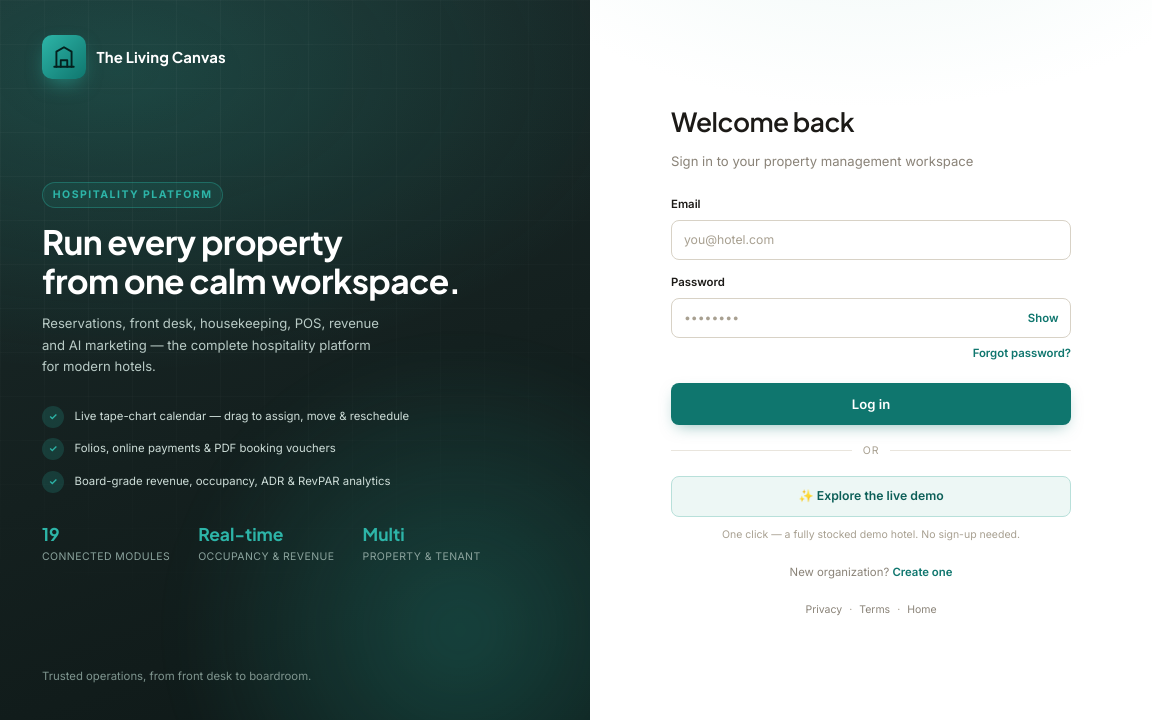
it: LoginPage › submits email and password and shows a server-provided error on failure
The width and height of the screenshot is (1152, 720).
Check: the button "Log in" is enabled, box [671,383,1071,426]
Type "owner@example.com" into the field labelled "Email". click: (871, 240)
box: [671,220,1071,260]
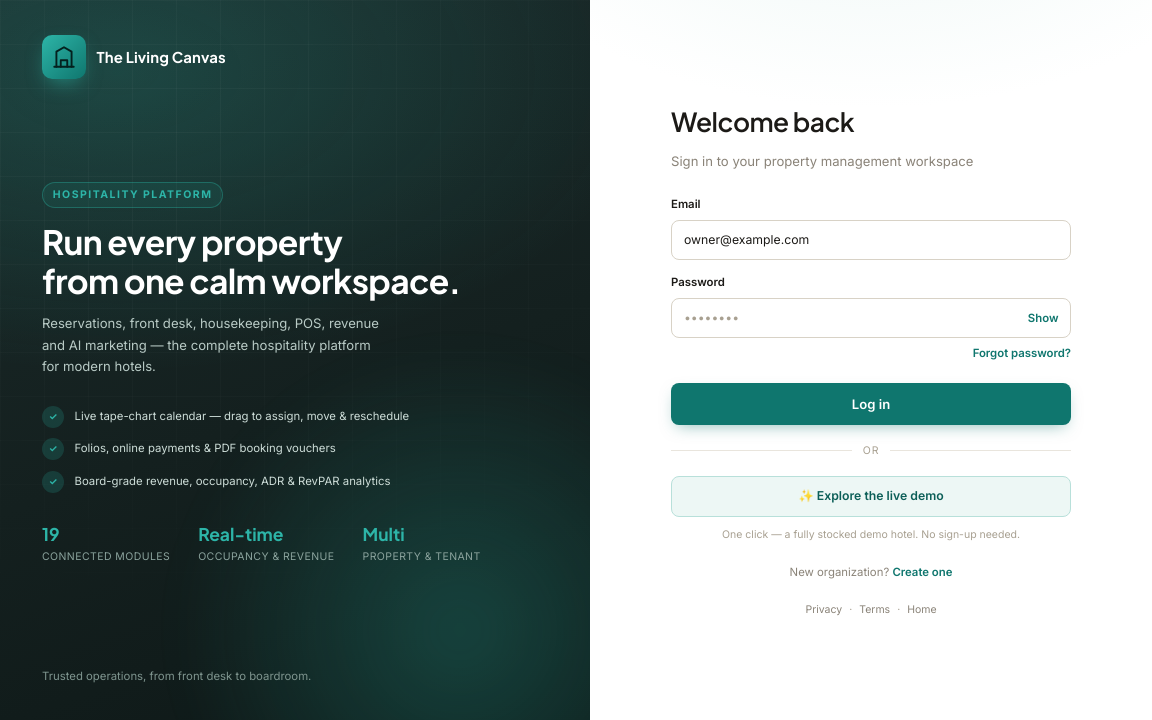
Type "wrong-password" into the password field labelled "Password". click: (871, 318)
box: [671,298,1071,338]
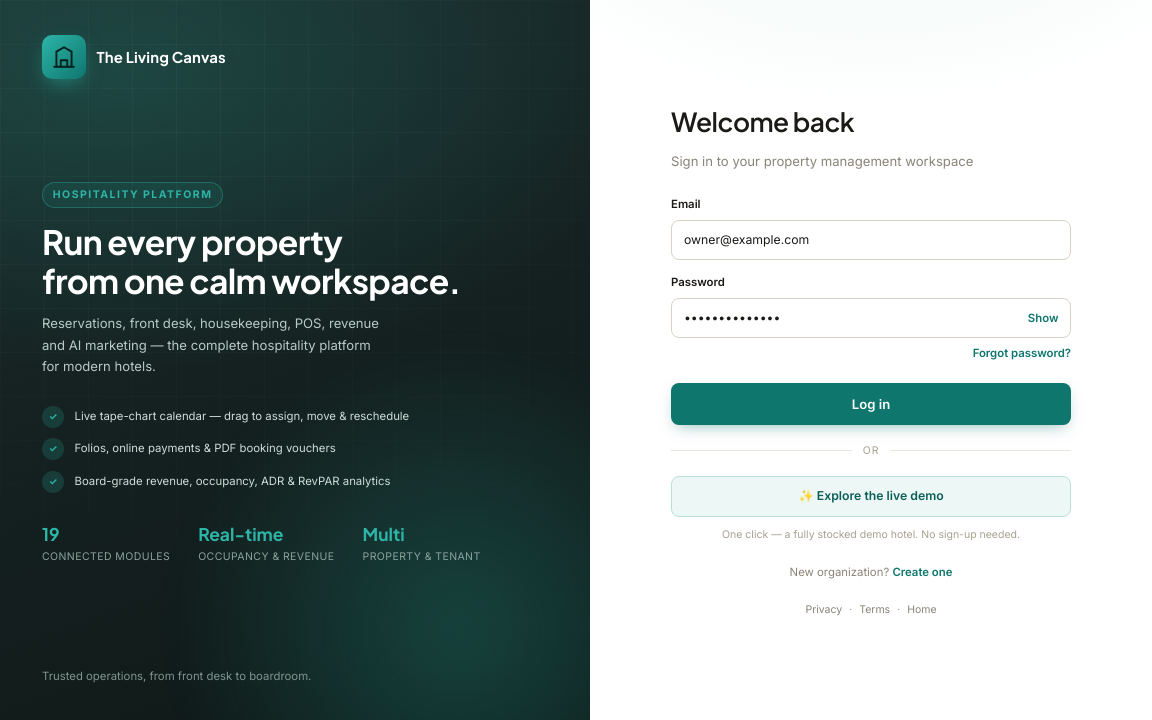
Click the button "Log in". click: (871, 404)
box: [671,383,1071,426]
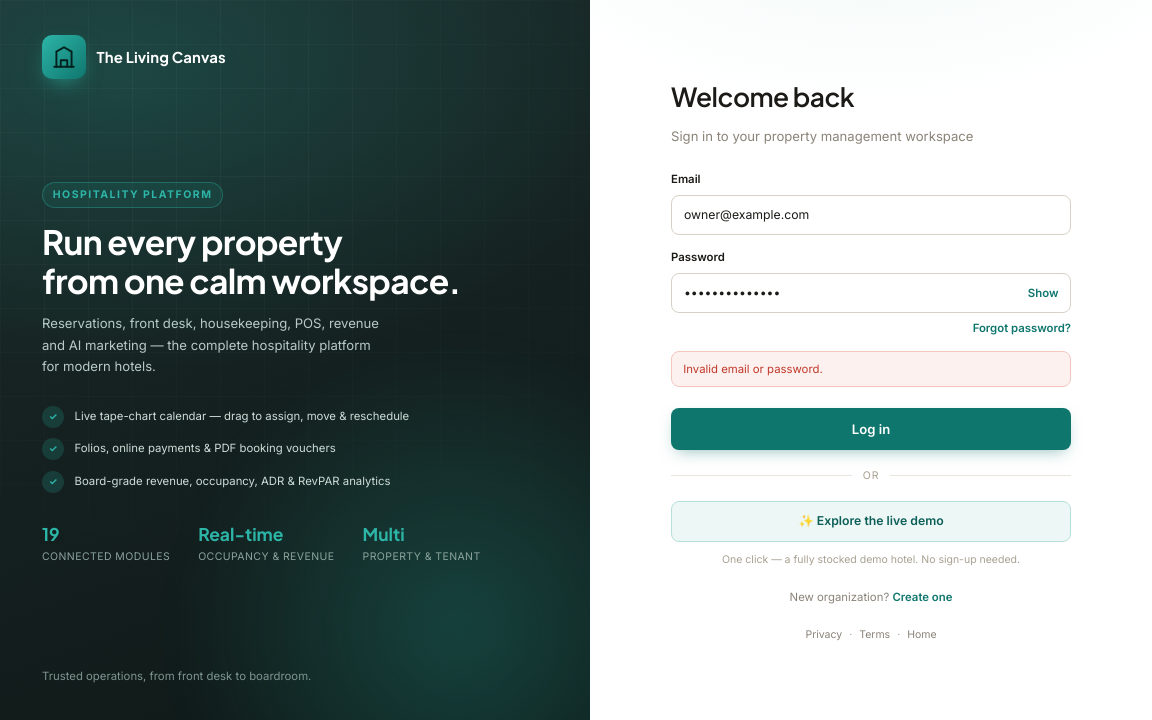
Check: the message reads "Invalid email or password.", box [683,362,823,376]
